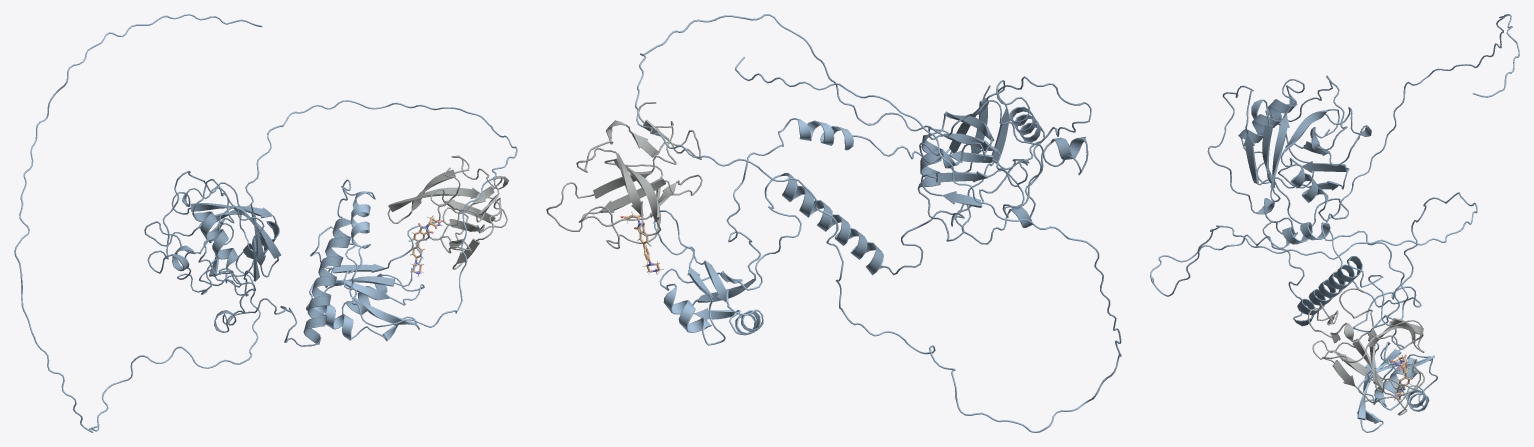
3 renders of one model, left to right at view 1: azimuth 30°, elevation 25°; view 2: azimuth 150°, elevation 25°; view 3: azimuth 270°, elevation 25°, orthographic. The views are drawn at different scales.
Visible parts, largest first — view 1: node-geom95, node-geom96; view 2: node-geom95, node-geom96; view 3: node-geom95, node-geom96.
Boxes of the visible parts, left/top/right/bottom form: node-geom95: left=144, top=155, right=508, bottom=346; node-geom96: left=14, top=14, right=517, bottom=432; node-geom95: left=546, top=76, right=1091, bottom=275; node-geom96: left=635, top=14, right=1121, bottom=432; node-geom95: left=1207, top=75, right=1424, bottom=415; node-geom96: left=1150, top=14, right=1519, bottom=432.
Size of the model in its own units: 144 by 92.5 by 93.65.
